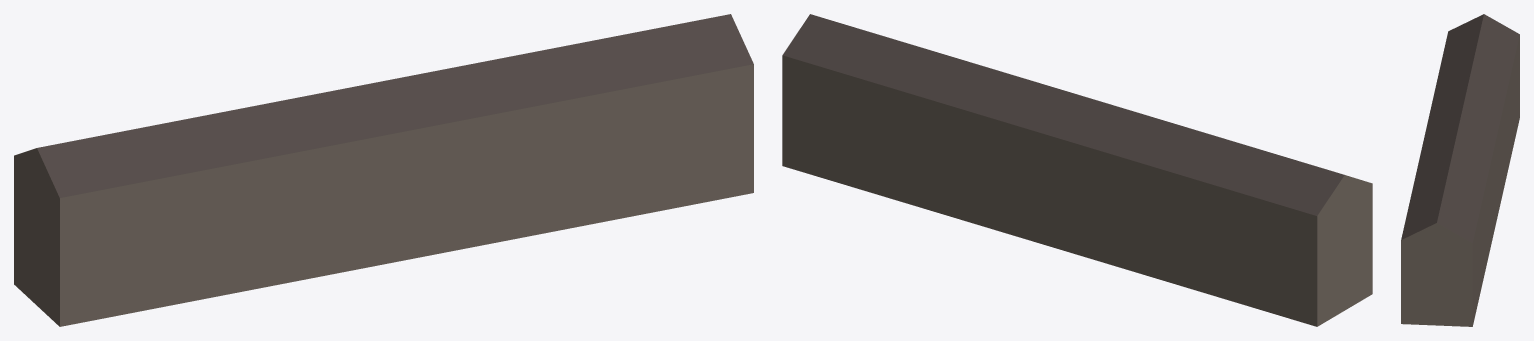
The picture shows the model from 3 angles, left to right: view 1: azimuth 30°, elevation 25°; view 2: azimuth 150°, elevation 25°; view 3: azimuth 270°, elevation 25°; orthographic projection. The views are drawn at different scales.
Visible parts, largest first — view 1: HP-w1287061522; view 2: HP-w1287061522; view 3: HP-w1287061522.
Boxes of the visible parts, x1=… form: HP-w1287061522: x1=14, y1=14, x2=753, y2=326; HP-w1287061522: x1=782, y1=14, x2=1372, y2=326; HP-w1287061522: x1=1401, y1=14, x2=1519, y2=326.
Bounding box in the file's own units: 48.78 × 11.02 × 11.56.
